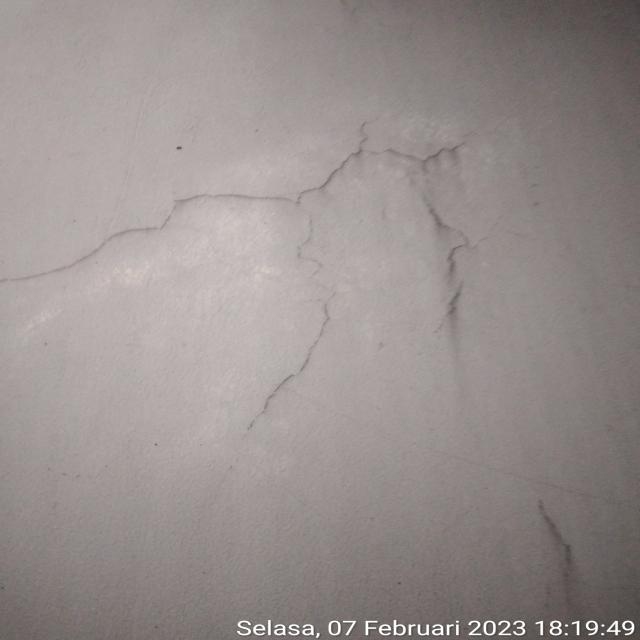Crack: (8, 140, 486, 448)
